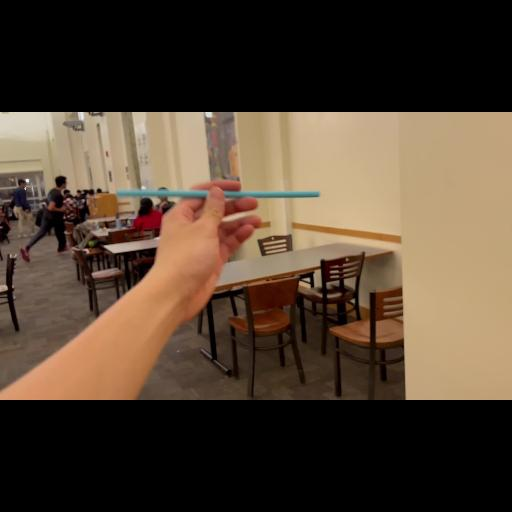straw: (104, 180, 326, 224)
